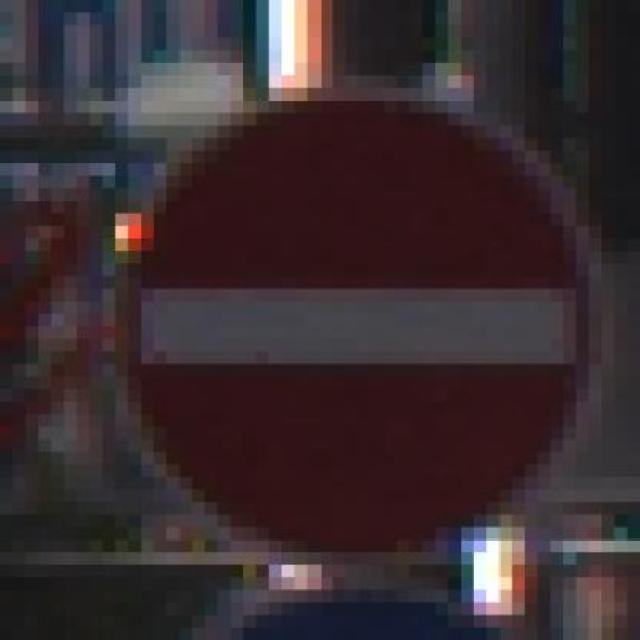No Entry: (88, 87, 600, 576)
